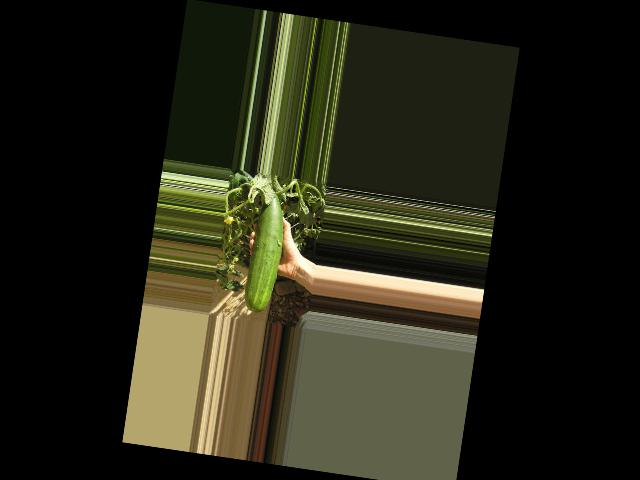cucumber: (242, 190, 290, 315)
